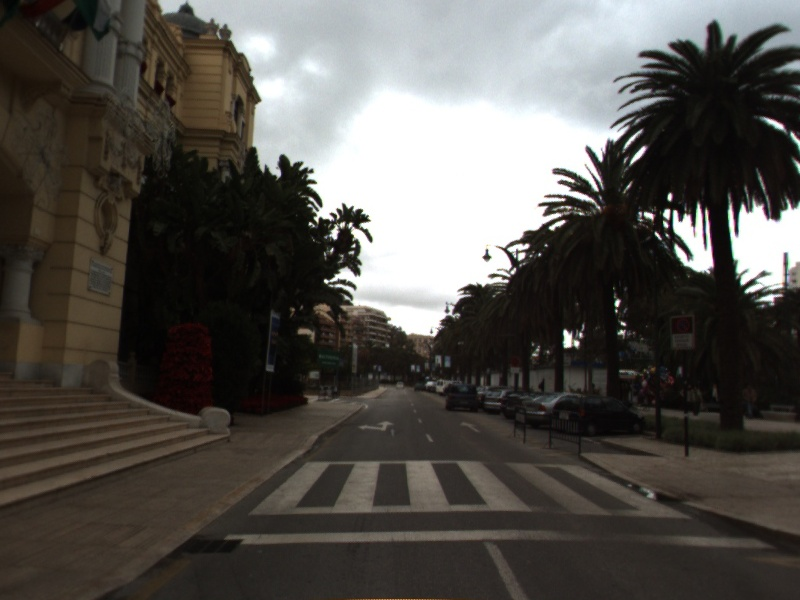STRAIGHT: (458, 419, 482, 434)
STRAIGHT_LEFT: (356, 419, 397, 433)
